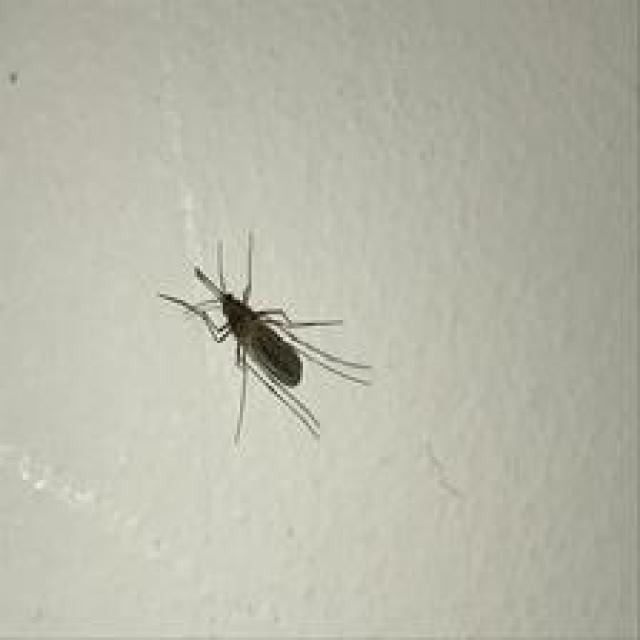Culex: (157, 228, 374, 446)
